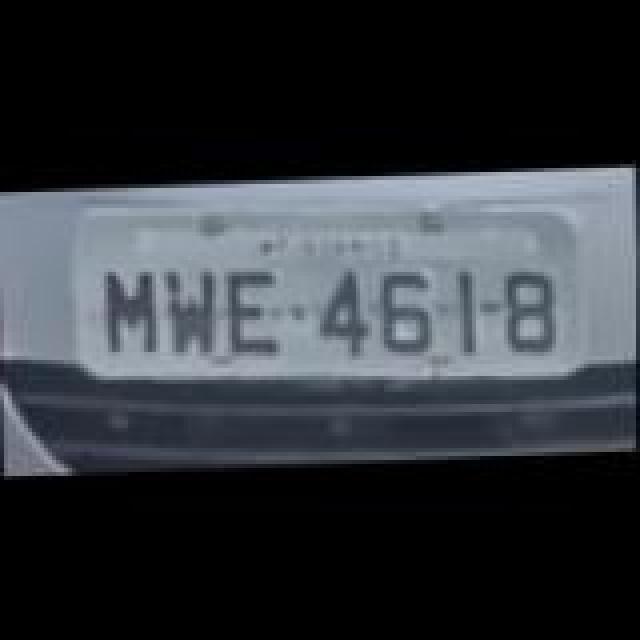1: (450, 264, 490, 352)
4: (310, 264, 382, 356)
6: (372, 260, 448, 352)
8: (492, 260, 568, 348)
E: (210, 262, 290, 354)
M: (84, 260, 176, 352)
W: (152, 260, 236, 352)
